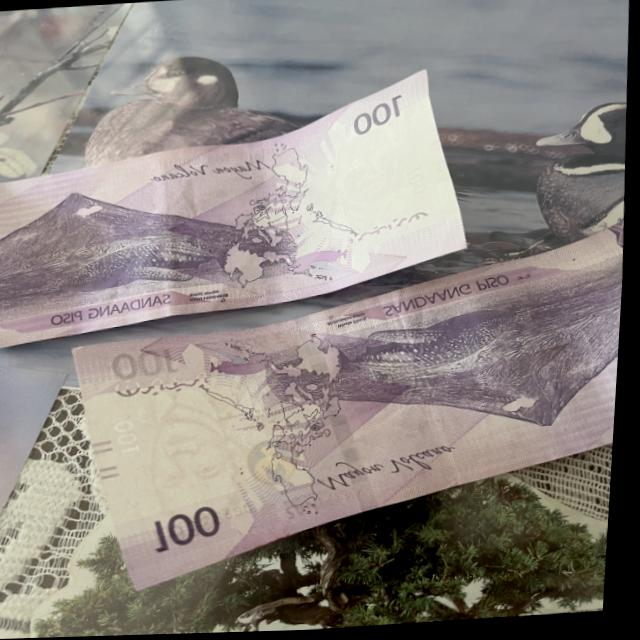100_whale: (337, 305, 523, 384), (53, 233, 238, 305)
100_whale_watermark: (279, 245, 358, 286), (203, 347, 286, 382)
value_watermark: (105, 411, 163, 460), (401, 161, 441, 204)
watermark: (112, 364, 289, 526)
